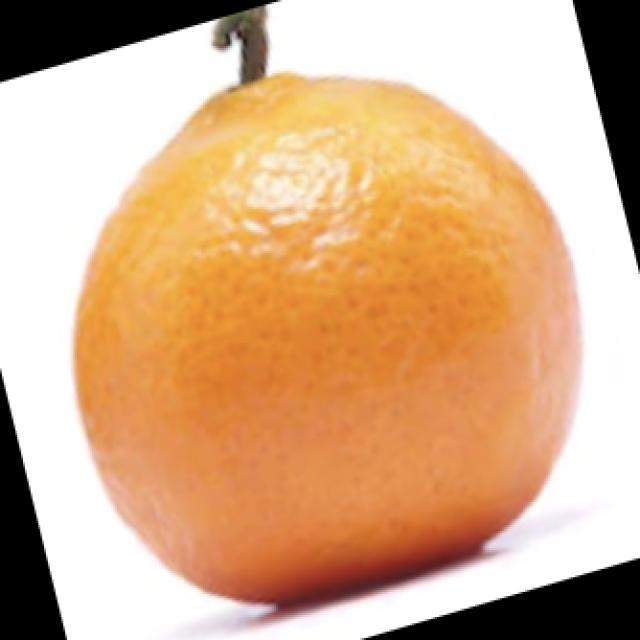matang: (74, 74, 579, 602)
